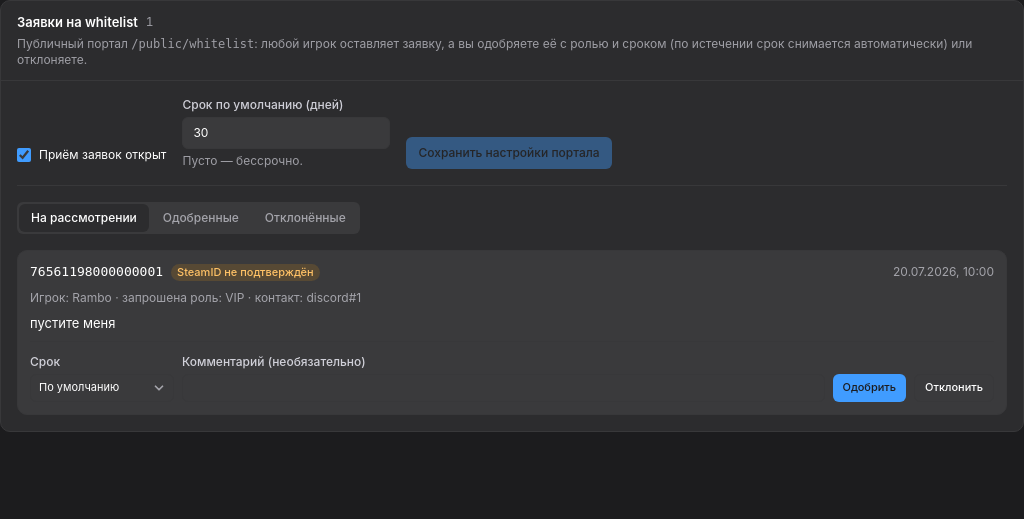
ApplicationsSection › hides the role picker and sends no role_id without user:manage_roles (#8)
Expected: the text "76561198000000001" is shown, [30,263,163,282]
Click the button "Одобрить". click: (869, 388)
box: [832,374,906,402]
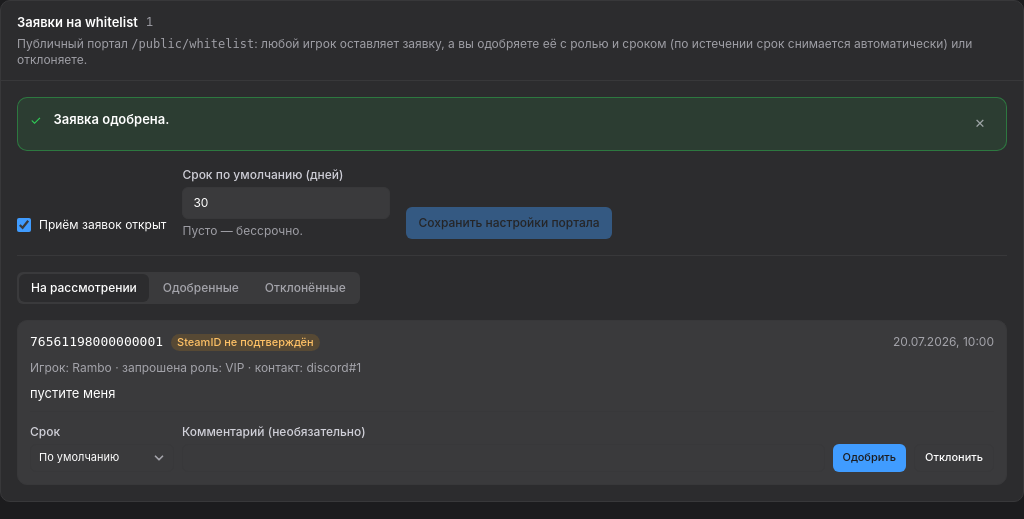
Now the text "Заявка одобрена." is shown, box [54,111,169,127]
